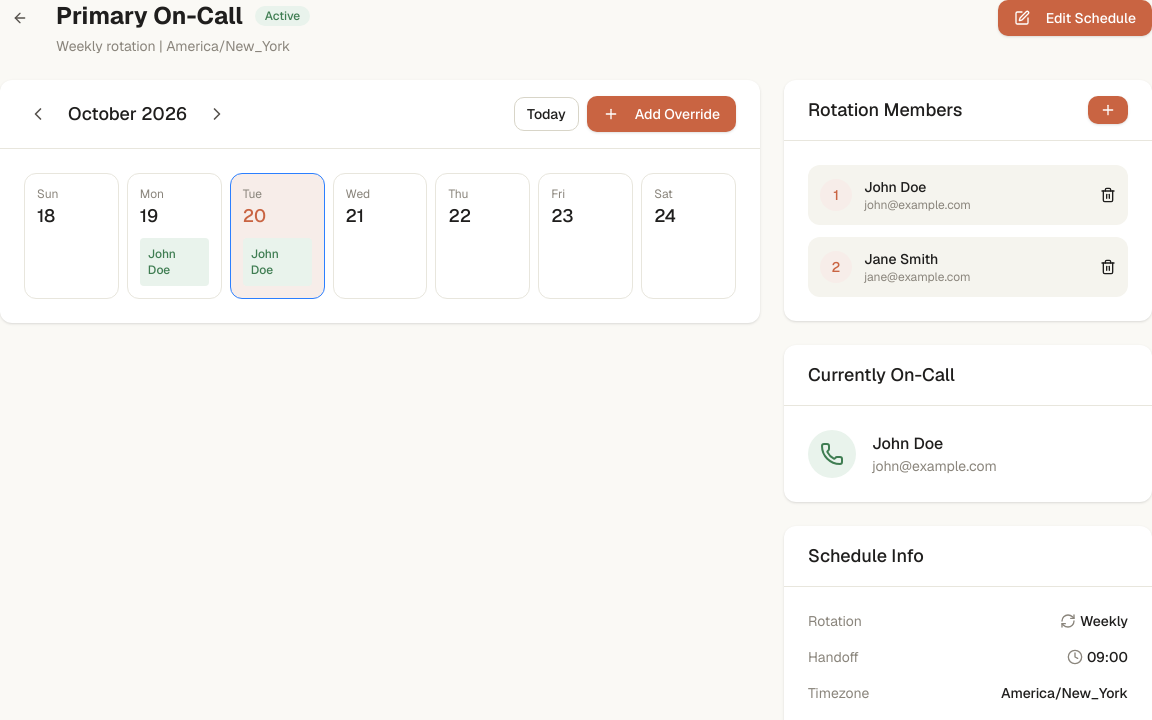
Test: ScheduleEditorPage › editing schedule › should cancel edit mode
Check: the heading "Primary On-Call" is shown, box top-left (56, 0), bottom-right (243, 32)
Click the button "Edit Schedule" at (1075, 18), box top-left (998, 0), bottom-right (1151, 36)
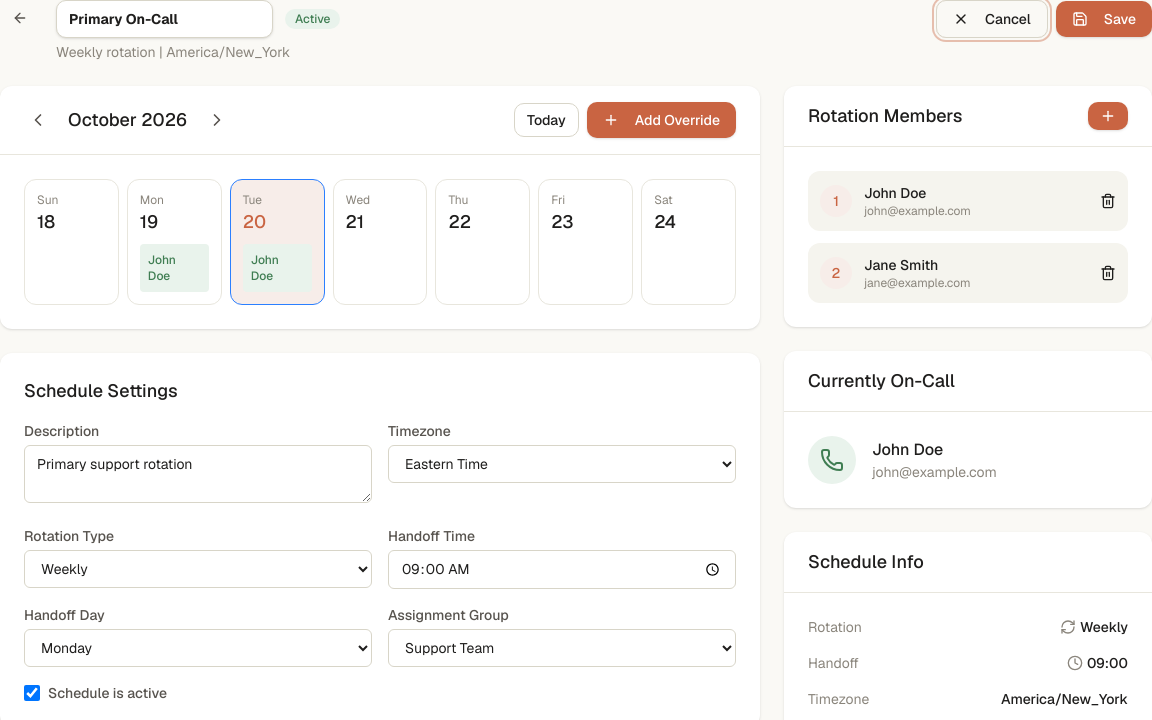
Check: the heading "Schedule Settings" is shown, box top-left (24, 379), bottom-right (178, 402)
Click the button "Cancel" at (992, 19), box top-left (936, 0), bottom-right (1048, 38)
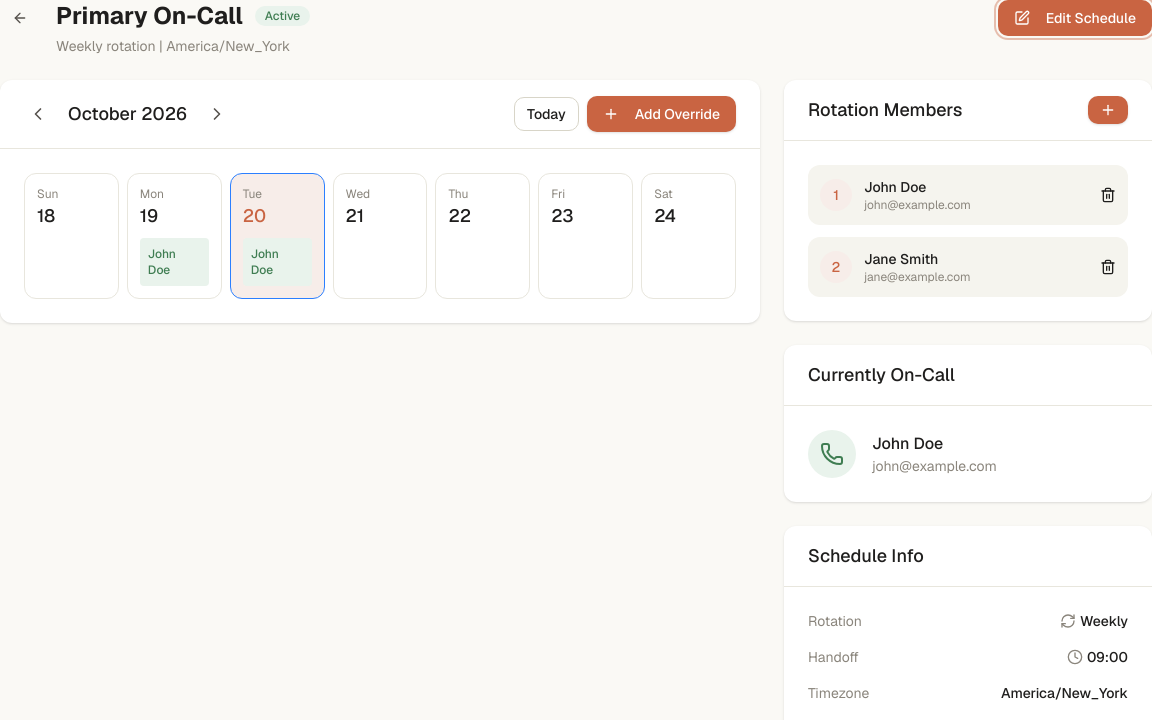
Check: the heading "Schedule Settings" is gone
